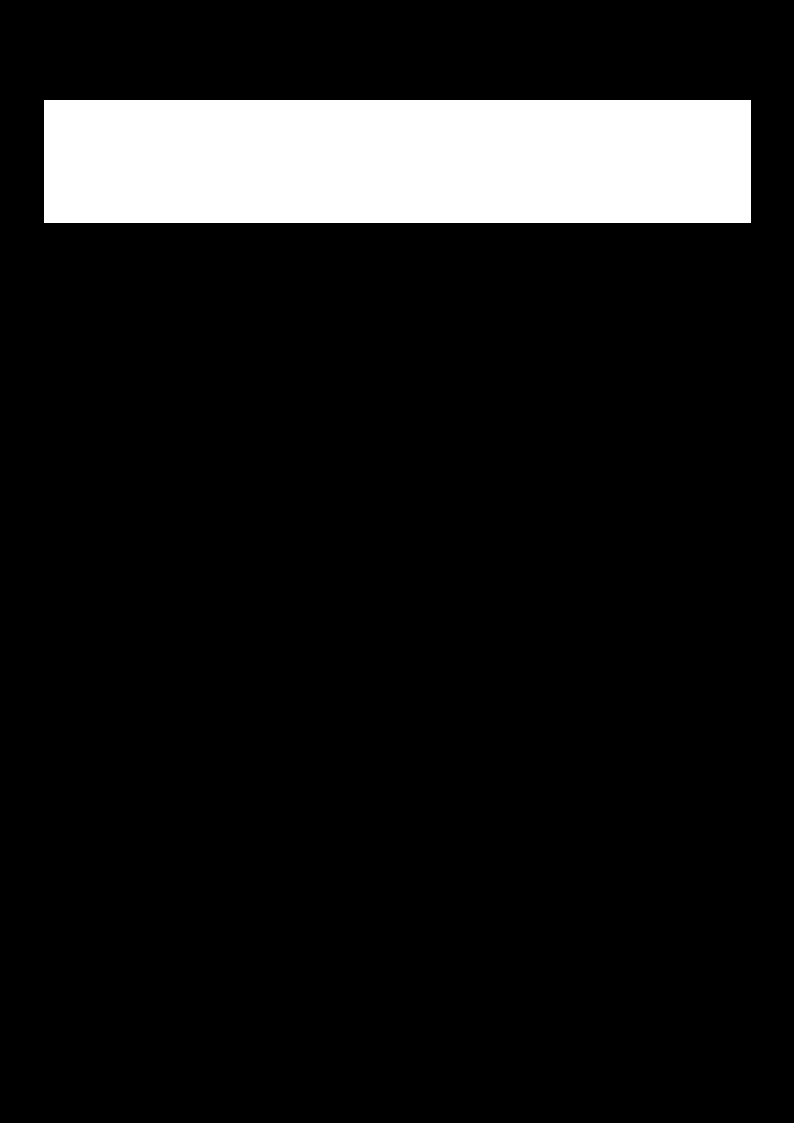table: (44, 100, 750, 222)
